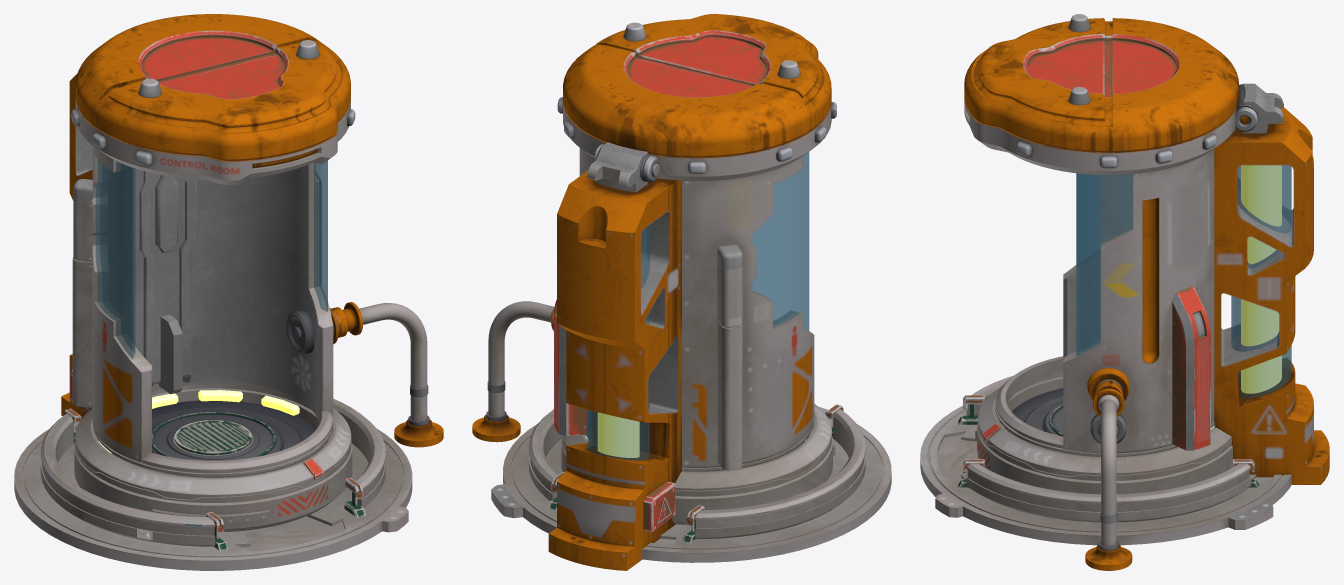
File: portal.glb
The picture shows the model from 3 angles, left to right: view 1: azimuth 30°, elevation 25°; view 2: azimuth 150°, elevation 25°; view 3: azimuth 270°, elevation 25°; orthographic projection. The views are drawn at different scales.
Parts seen in each view (by area): view 1: Portal_001; view 2: Portal_001; view 3: Portal_001.
Boxes of the visible parts, x1,y1,x2,y2 form: Portal_001: [14, 14, 443, 570]; Portal_001: [472, 14, 891, 570]; Portal_001: [920, 14, 1329, 570].
Size of the model in its own units: 2.74 by 2.86 by 2.57.
3 materials, 2 textured.
